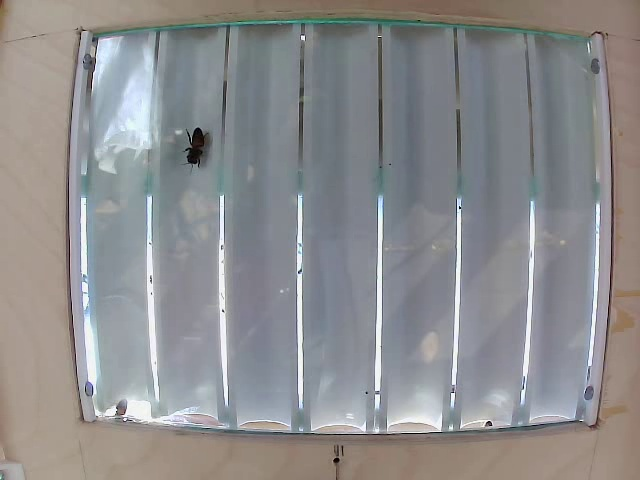bee: (171, 120, 211, 182)
